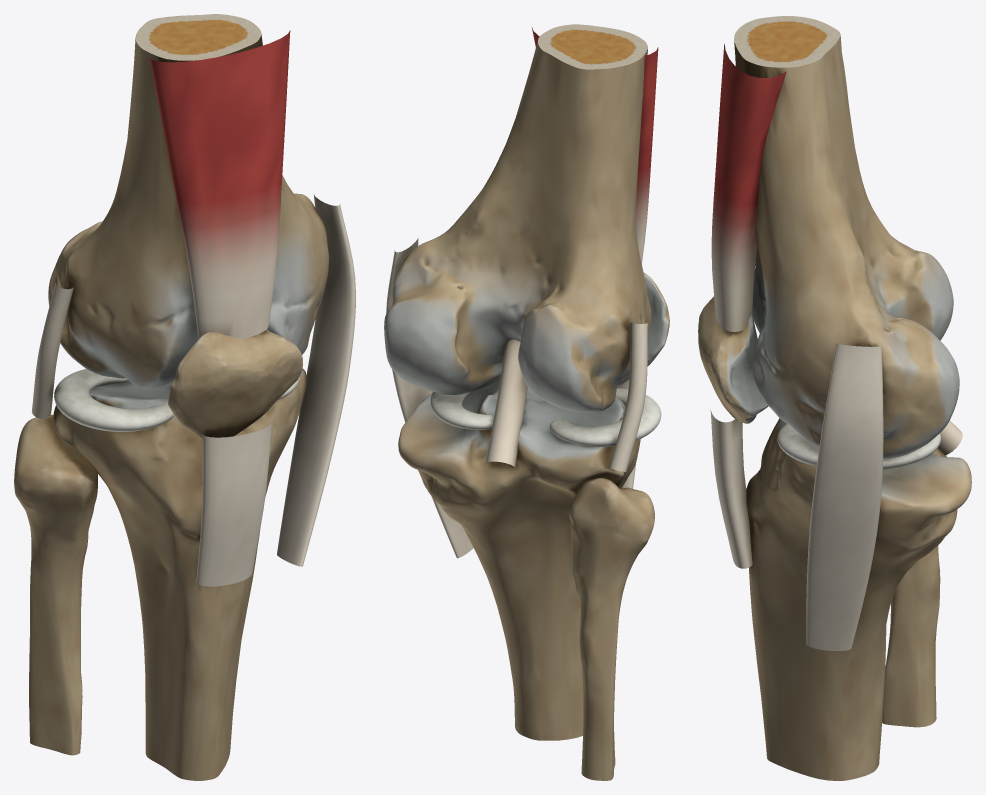
Rendered from knee.e4bddf1c.glb.
3 renders of one model, left to right at view 1: azimuth 30°, elevation 25°; view 2: azimuth 150°, elevation 25°; view 3: azimuth 270°, elevation 25°, orthographic. The views are drawn at different scales.
Parts seen in each view (by area): view 1: Right femur, Right tibia, Quadriceps tendon, Right fibula, Medial collateral ligament, Right patella, Patellar ligament, Lateral meniscus, Lateral collateral ligament; view 2: Right femur, Right tibia, Right fibula, Posterior cruciate ligament, Lateral collateral ligament, Quadriceps tendon, Medial collateral ligament, Lateral meniscus, Medial meniscus, Right patella; view 3: Right femur, Right tibia, Medial collateral ligament, Quadriceps tendon, Right fibula, Right patella, Patellar ligament, Medial meniscus, Posterior cruciate ligament.
Boxes of the visible parts, left/top/right/bottom form: Right femur: left=48, top=14, right=328, bottom=388; Right tibia: left=53, top=368, right=306, bottom=780; Quadriceps tendon: left=149, top=30, right=290, bottom=338; Right fibula: left=14, top=414, right=97, bottom=755; Medial collateral ligament: left=277, top=194, right=355, bottom=566; Right patella: left=168, top=329, right=302, bottom=439; Patellar ligament: left=196, top=423, right=272, bottom=586; Lateral meniscus: left=54, top=369, right=173, bottom=431; Lateral collateral ligament: left=31, top=282, right=73, bottom=418; Right femur: left=384, top=24, right=651, bottom=412; Right tibia: left=398, top=379, right=640, bottom=740; Right fibula: left=569, top=478, right=654, bottom=780; Posterior cruciate ligament: left=486, top=339, right=527, bottom=467; Lateral collateral ligament: left=609, top=322, right=647, bottom=471; Quadriceps tendon: left=532, top=27, right=658, bottom=263; Medial collateral ligament: left=386, top=238, right=473, bottom=558; Lateral meniscus: left=549, top=388, right=661, bottom=446; Medial meniscus: left=430, top=391, right=493, bottom=429; Right patella: left=617, top=272, right=669, bottom=386; Right femur: left=734, top=16, right=959, bottom=459; Right tibia: left=746, top=418, right=971, bottom=780; Medial collateral ligament: left=806, top=343, right=883, bottom=650; Quadriceps tendon: left=711, top=43, right=786, bottom=331; Right fibula: left=882, top=545, right=940, bottom=727; Right patella: left=698, top=296, right=768, bottom=423; Patellar ligament: left=710, top=409, right=752, bottom=568; Medial meniscus: left=777, top=423, right=940, bottom=469; Posterior cruciate ligament: left=938, top=420, right=962, bottom=455.
Bounding box in the file's own units: 1.8 × 4.17 × 1.44.
